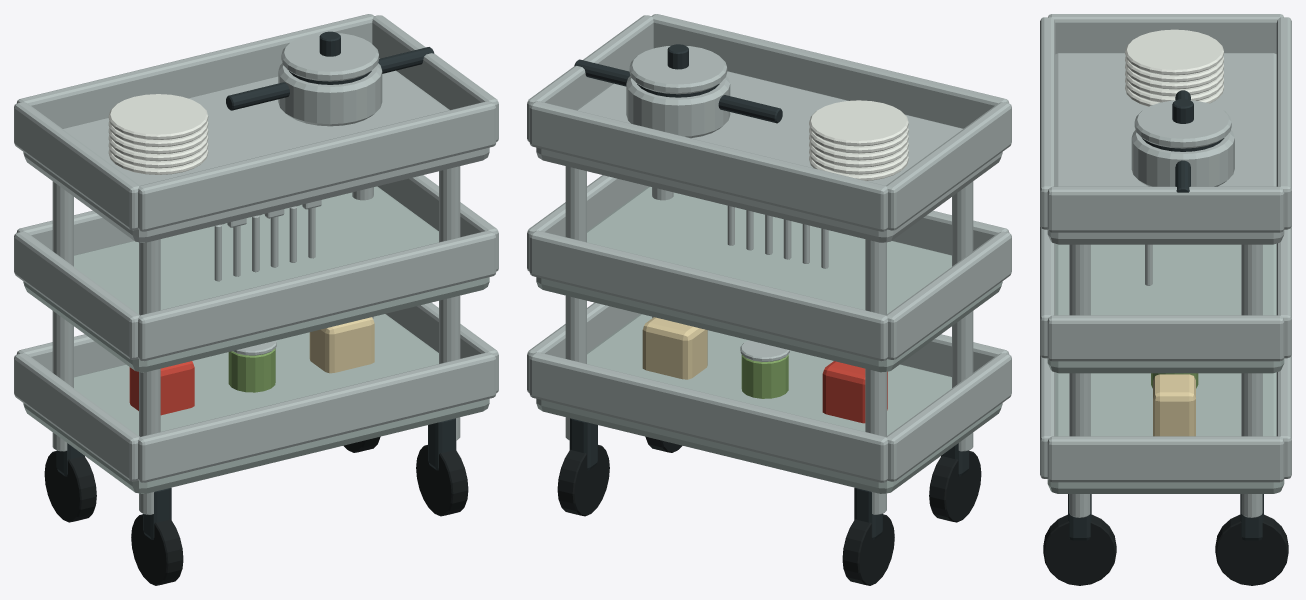
Rendered from Chariot de service cuisine.glb.
3 renders of one model, left to right at view 1: azimuth 30°, elevation 25°; view 2: azimuth 150°, elevation 25°; view 3: azimuth 270°, elevation 25°, orthographic.
Visible parts, largest first — view 1: TROLLEY_Tray_2, TROLLEY_Tray_1, TROLLEY_Tray_Lip_Front_1, TROLLEY_Tray_Lip_Front_2, TROLLEY_Tray_Lip_Front_3, TROLLEY_Tray_3, TROLLEY_Tray_Lip_Back_3, TROLLEY_Tray_Lip_Left_1, TROLLEY_Tray_Lip_Left_2, TROLLEY_Tray_Lip_Left_3, TROLLEY_Sauce_Pot_Pot_Body, TROLLEY_Tray_Lip_Right_3 (+24 smaller); view 2: TROLLEY_Tray_2, TROLLEY_Tray_Lip_Back_1, TROLLEY_Tray_Lip_Back_2, TROLLEY_Tray_Lip_Back_3, TROLLEY_Tray_1, TROLLEY_Tray_3, TROLLEY_Tray_Lip_Front_3, TROLLEY_Tray_Lip_Left_1, TROLLEY_Tray_Lip_Left_2, TROLLEY_Tray_Lip_Left_3, TROLLEY_Sauce_Pot_Pot_Body, TROLLEY_Tray_Lip_Right_3 (+24 smaller); view 3: TROLLEY_Tray_3, TROLLEY_Tray_2, TROLLEY_Tray_1, TROLLEY_Tray_Lip_Right_2, TROLLEY_Tray_Lip_Right_1, TROLLEY_Tray_Lip_Right_3, TROLLEY_Tray_Lip_Left_3, TROLLEY_Sauce_Pot_Pot_Body, TROLLEY_Wheel_1_-1, TROLLEY_Wheel_1_1, TROLLEY_Plates_Plate_6, TROLLEY_Post_0.4_-0.2 (+18 smaller).
Boxes of the visible parts, <box> form: TROLLEY_Tray_2: <box>23,186,489,372</box>; TROLLEY_Tray_1: <box>23,314,489,493</box>; TROLLEY_Tray_Lip_Front_1: <box>138,352,496,482</box>; TROLLEY_Tray_Lip_Front_2: <box>138,230,496,361</box>; TROLLEY_Tray_Lip_Front_3: <box>138,101,496,231</box>; TROLLEY_Tray_3: <box>23,58,489,242</box>; TROLLEY_Tray_Lip_Back_3: <box>17,14,374,128</box>; TROLLEY_Tray_Lip_Left_1: <box>14,353,139,481</box>; TROLLEY_Tray_Lip_Left_2: <box>14,231,139,359</box>; TROLLEY_Tray_Lip_Left_3: <box>14,102,139,230</box>; TROLLEY_Sauce_Pot_Pot_Body: <box>278,63,382,126</box>; TROLLEY_Tray_Lip_Right_3: <box>372,15,498,141</box>; TROLLEY_Tray_2: <box>536,186,1002,372</box>; TROLLEY_Tray_Lip_Back_1: <box>529,352,887,482</box>; TROLLEY_Tray_Lip_Back_2: <box>529,230,887,361</box>; TROLLEY_Tray_Lip_Back_3: <box>529,101,887,231</box>; TROLLEY_Tray_1: <box>536,314,1002,493</box>; TROLLEY_Tray_3: <box>536,71,1002,242</box>; TROLLEY_Tray_Lip_Front_3: <box>651,14,1008,128</box>; TROLLEY_Tray_Lip_Left_1: <box>886,353,1011,481</box>; TROLLEY_Tray_Lip_Left_2: <box>886,231,1011,359</box>; TROLLEY_Tray_Lip_Left_3: <box>886,102,1011,230</box>; TROLLEY_Sauce_Pot_Pot_Body: <box>626,75,730,138</box>; TROLLEY_Tray_Lip_Right_3: <box>527,15,653,141</box>; TROLLEY_Tray_3: <box>1047,53,1284,244</box>; TROLLEY_Tray_2: <box>1047,243,1284,373</box>; TROLLEY_Tray_1: <box>1047,372,1284,493</box>; TROLLEY_Tray_Lip_Right_2: <box>1047,315,1284,361</box>; TROLLEY_Tray_Lip_Right_1: <box>1047,436,1284,482</box>; TROLLEY_Tray_Lip_Right_3: <box>1047,186,1284,232</box>; TROLLEY_Tray_Lip_Left_3: <box>1048,14,1283,53</box>; TROLLEY_Sauce_Pot_Pot_Body: <box>1131,130,1234,186</box>; TROLLEY_Wheel_1_-1: <box>1043,514,1116,585</box>; TROLLEY_Wheel_1_1: <box>1215,514,1288,585</box>; TROLLEY_Plates_Plate_6: <box>1125,29,1223,75</box>; TROLLEY_Post_0.4_-0.2: <box>1069,244,1090,517</box>.
Bounding box in the file's own units: 0.985 × 1.15 × 0.585.
